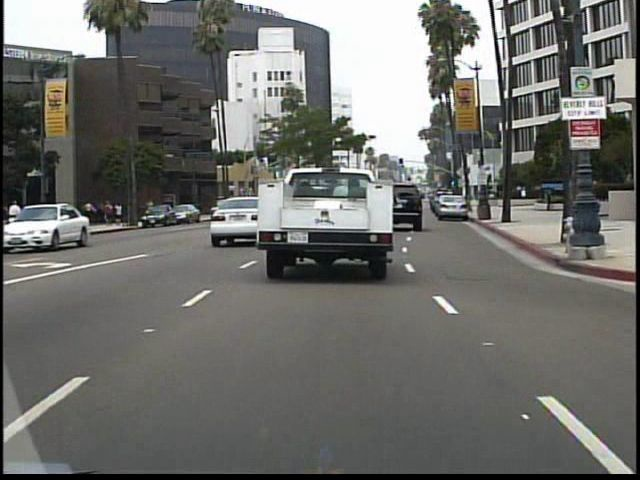person: (64, 198, 80, 233), (9, 196, 24, 223), (544, 183, 554, 213), (4, 199, 9, 237)
